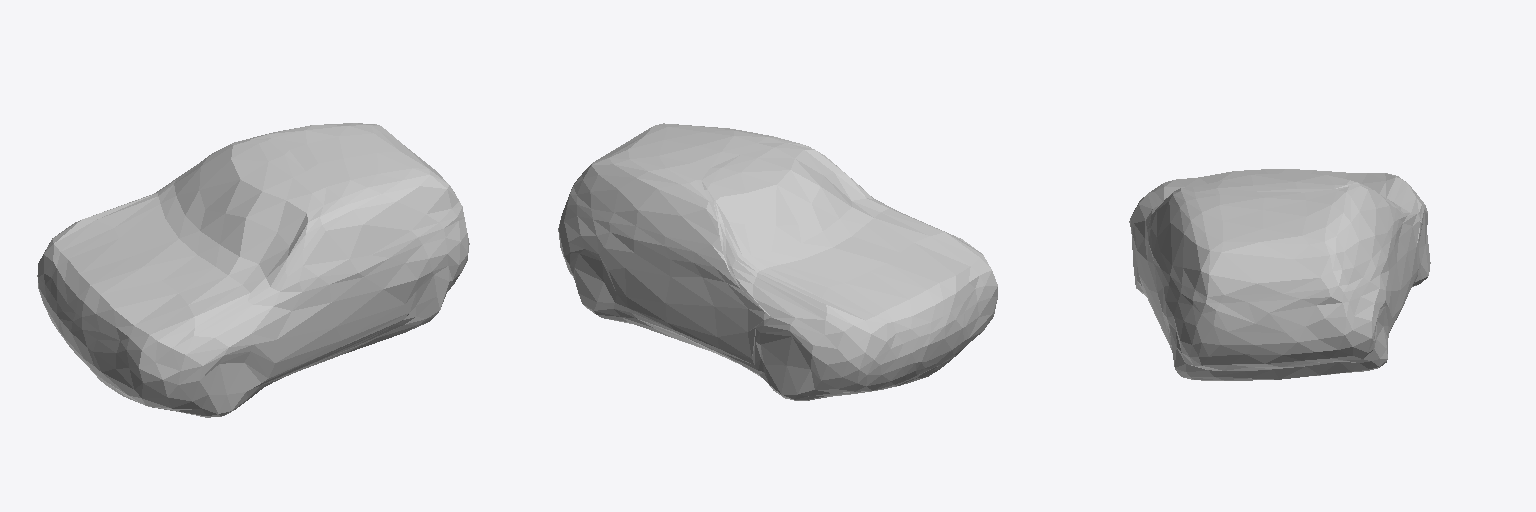
The model's file is video3_262.obj.
3 views of the same model, side by side, from view 1: azimuth 30°, elevation 25°; view 2: azimuth 150°, elevation 25°; view 3: azimuth 270°, elevation 25° (orthographic).
Size of the model in its own units: 1 by 0.464 by 0.7182.